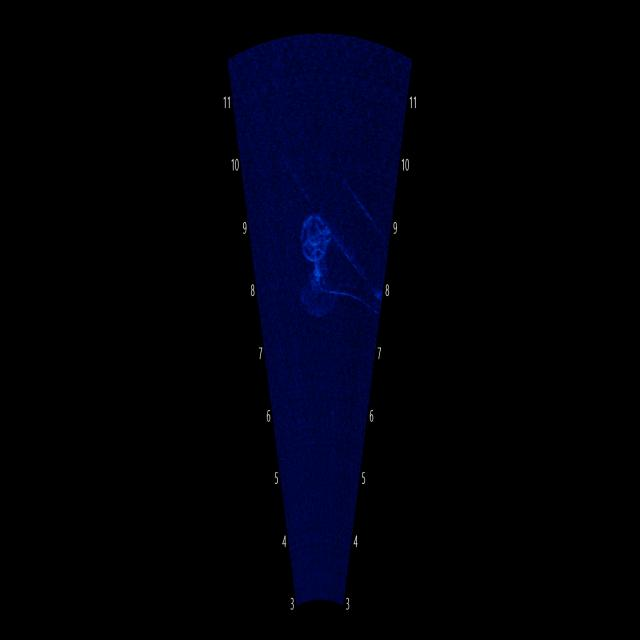circle: (291, 178, 328, 268)
